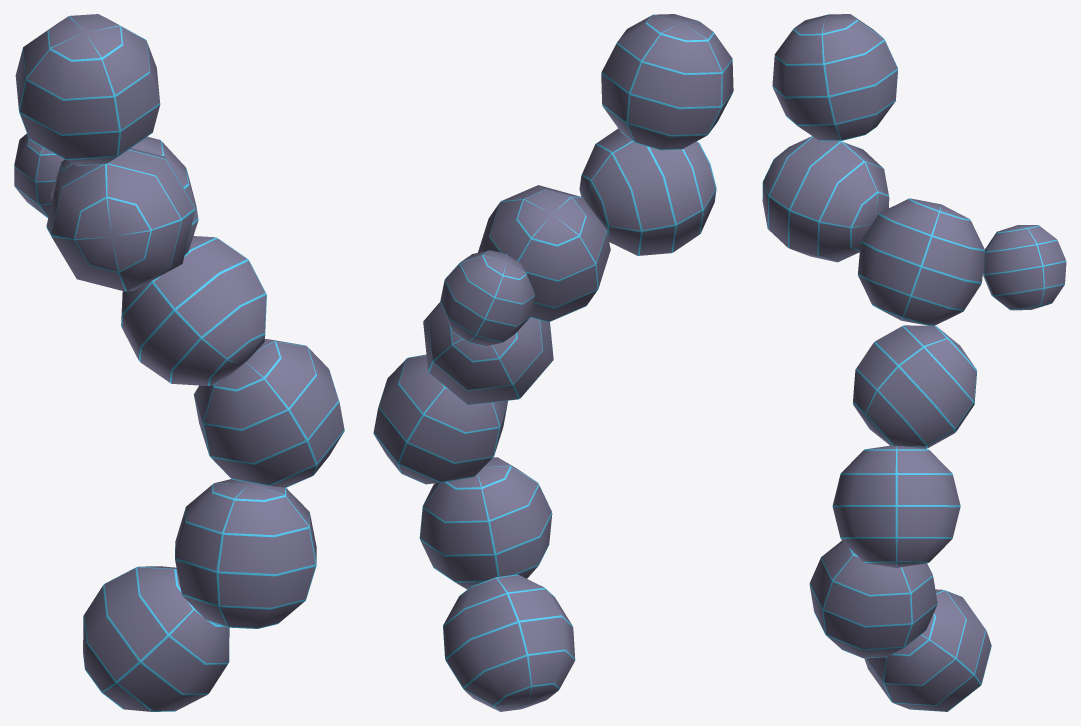
Rendered from Chemical.fbx.
3 views of the same model, side by side, from view 1: azimuth 30°, elevation 25°; view 2: azimuth 150°, elevation 25°; view 3: azimuth 270°, elevation 25° (orthographic). The views are drawn at different scales.
Visible parts, largest first — view 1: Balls; view 2: Balls; view 3: Balls.
Boxes of the visible parts, bbox=[...] form: Balls: bbox=[14, 14, 344, 711]; Balls: bbox=[373, 14, 733, 711]; Balls: bbox=[762, 14, 1066, 711].
Bounding box in the file's own units: 5.18 × 10.7 × 4.64.
